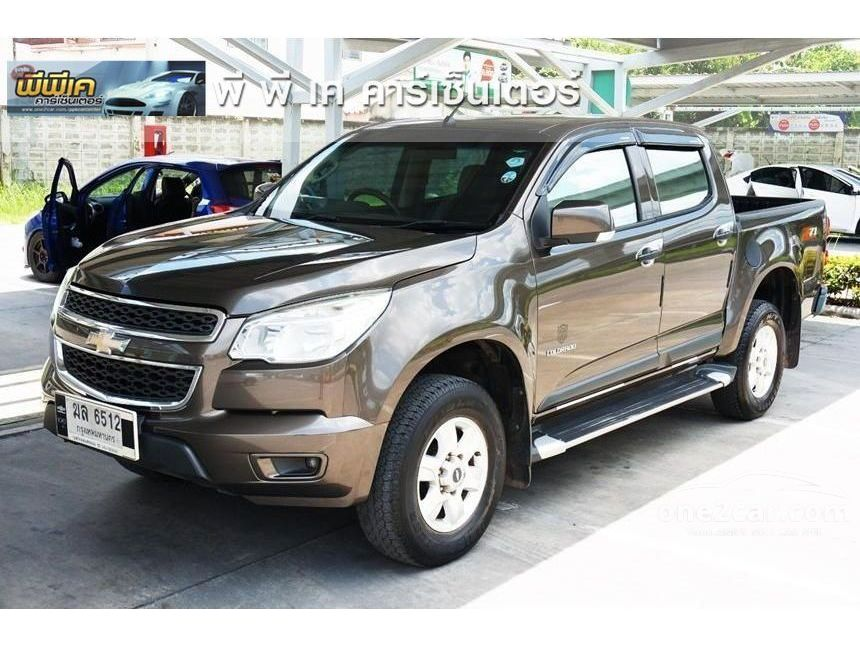pickup: (41, 114, 834, 566)
